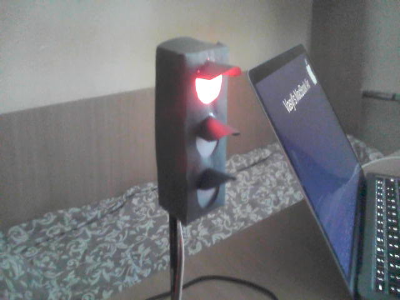trafficlight_red: (186, 52, 232, 211)
